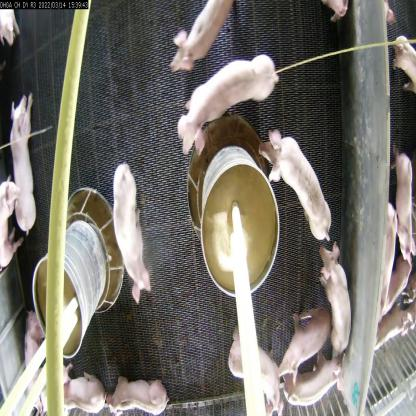Pig: (165, 53, 274, 154), (260, 122, 328, 246), (107, 169, 158, 304), (156, 1, 236, 73), (314, 240, 360, 362), (10, 86, 44, 231), (277, 300, 336, 376), (279, 352, 344, 415), (224, 340, 276, 415), (110, 365, 164, 416), (53, 367, 105, 415), (0, 159, 18, 292)
